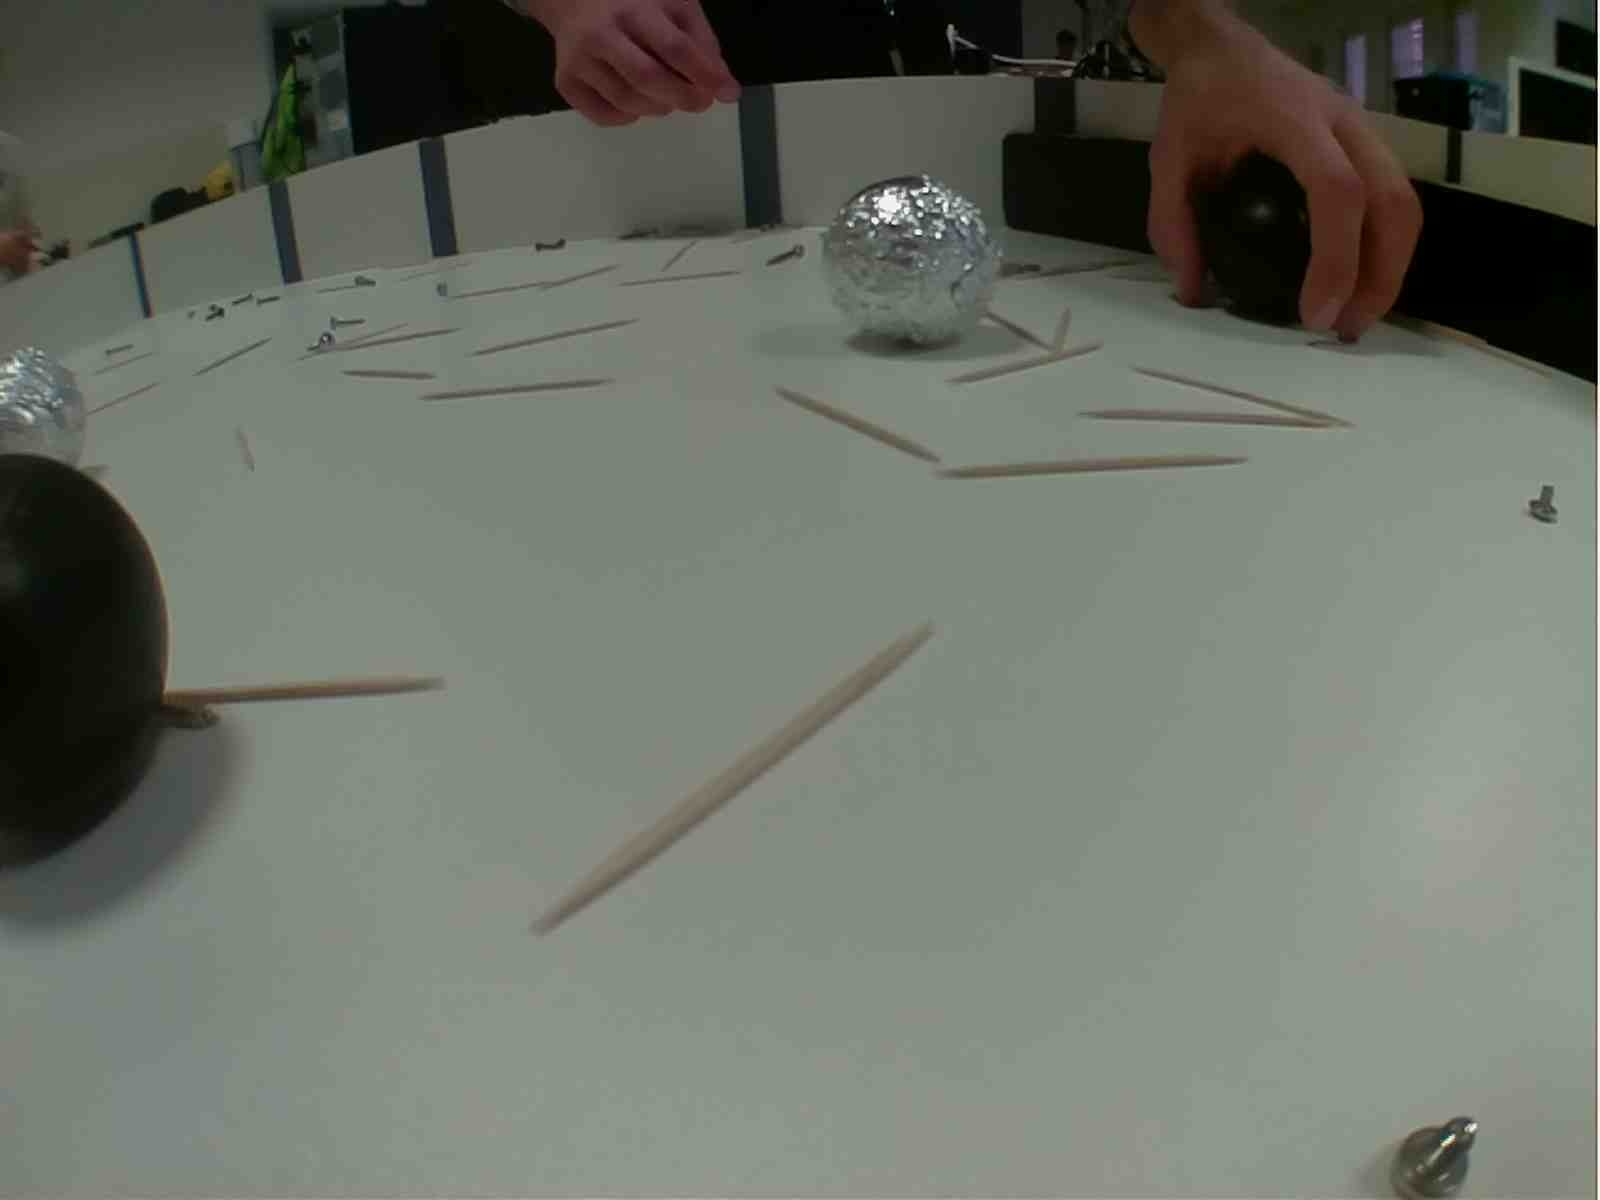bianca: (821, 169, 1000, 355), (1, 337, 93, 482)
nera: (1, 451, 174, 887)
